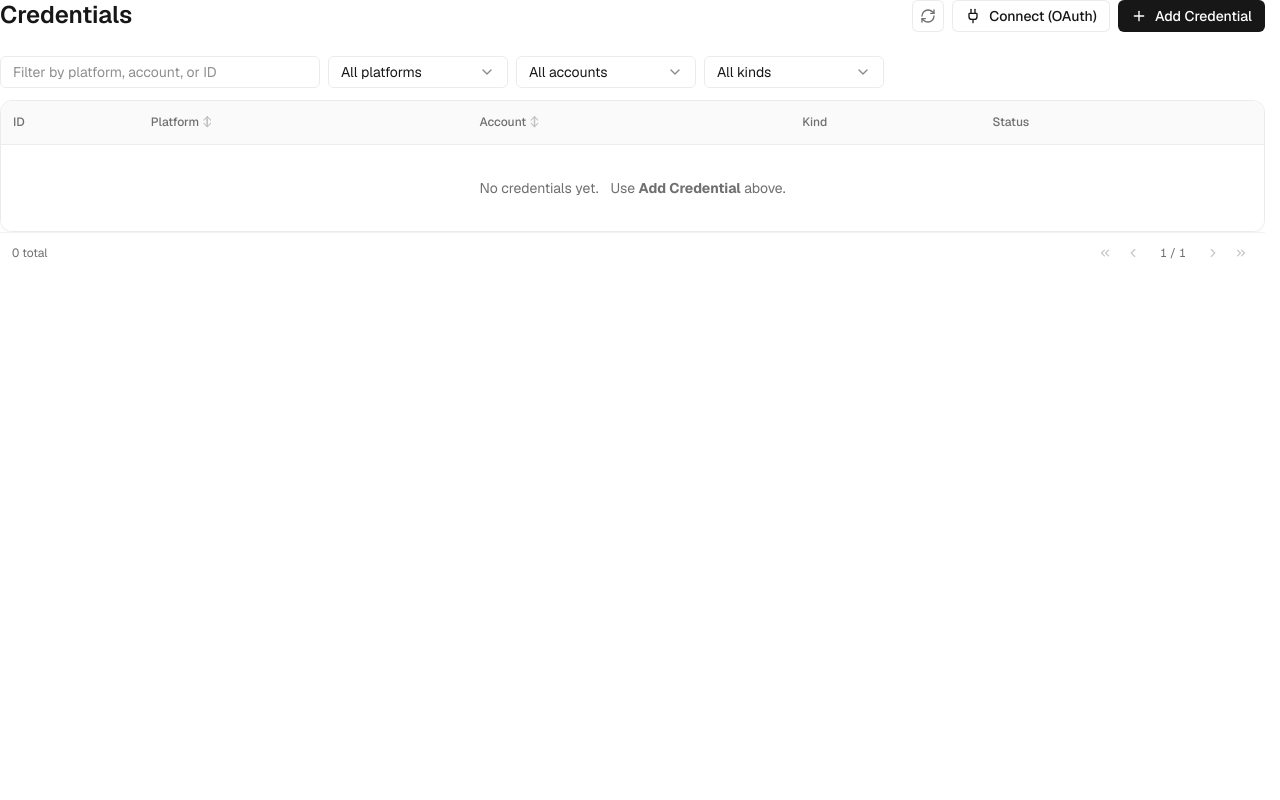
Scenario: CredentialsPage › opens Add dialog when 'Add credential' is clicked
Click the button "Add Credential".
click(1191, 16)  # box top-left (1118, 0), bottom-right (1265, 32)
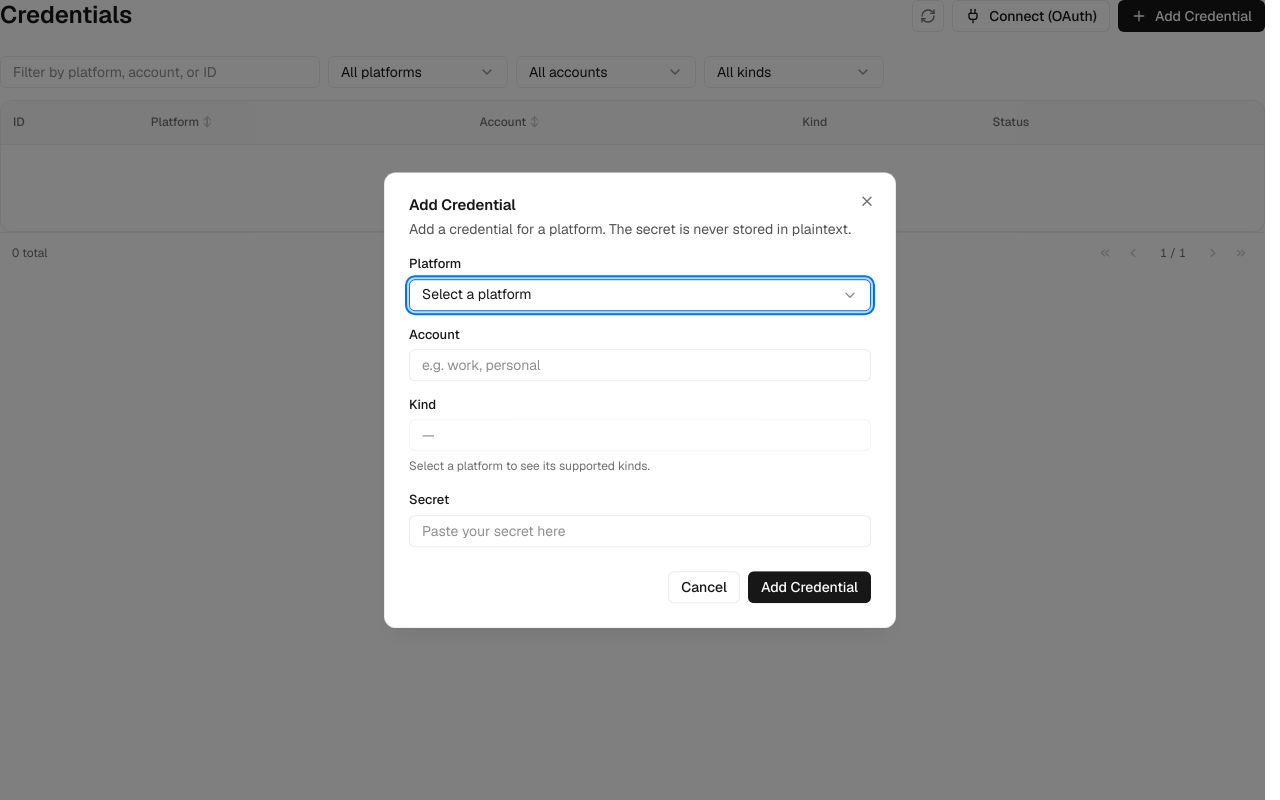
Expected: the dialog is shown, top-left (384, 172), bottom-right (896, 628)
